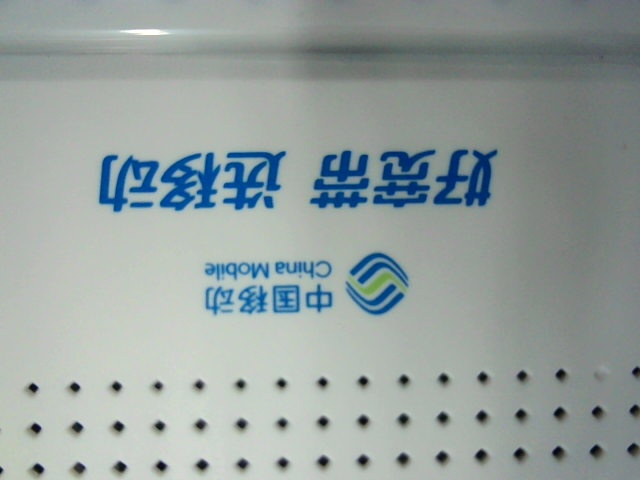AA_ChinaMobile: (86, 143, 510, 322)
